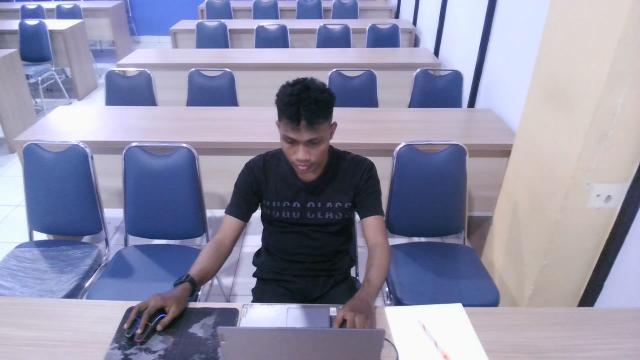Normal_Focus: (202, 67, 410, 360)
